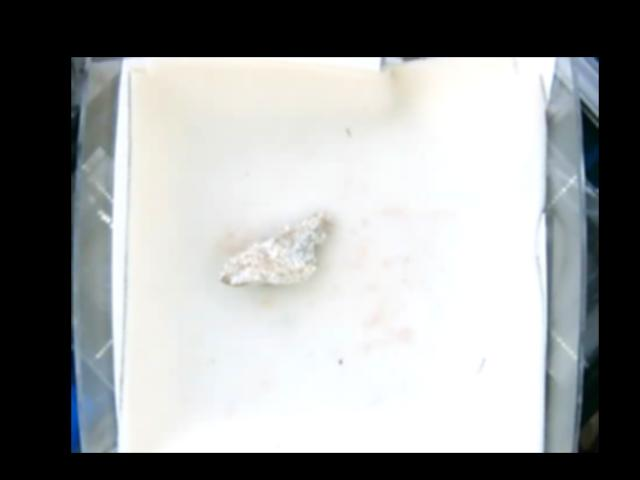Brisk: (215, 210, 330, 291)
